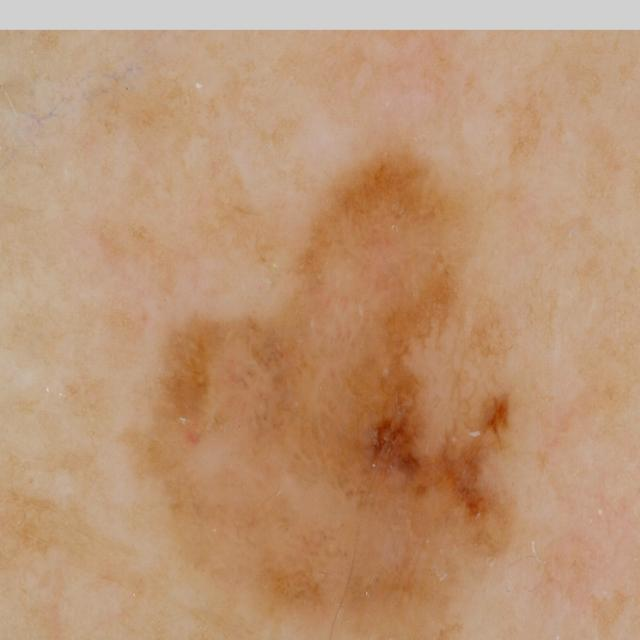Melanoma: (122, 145, 545, 613)
